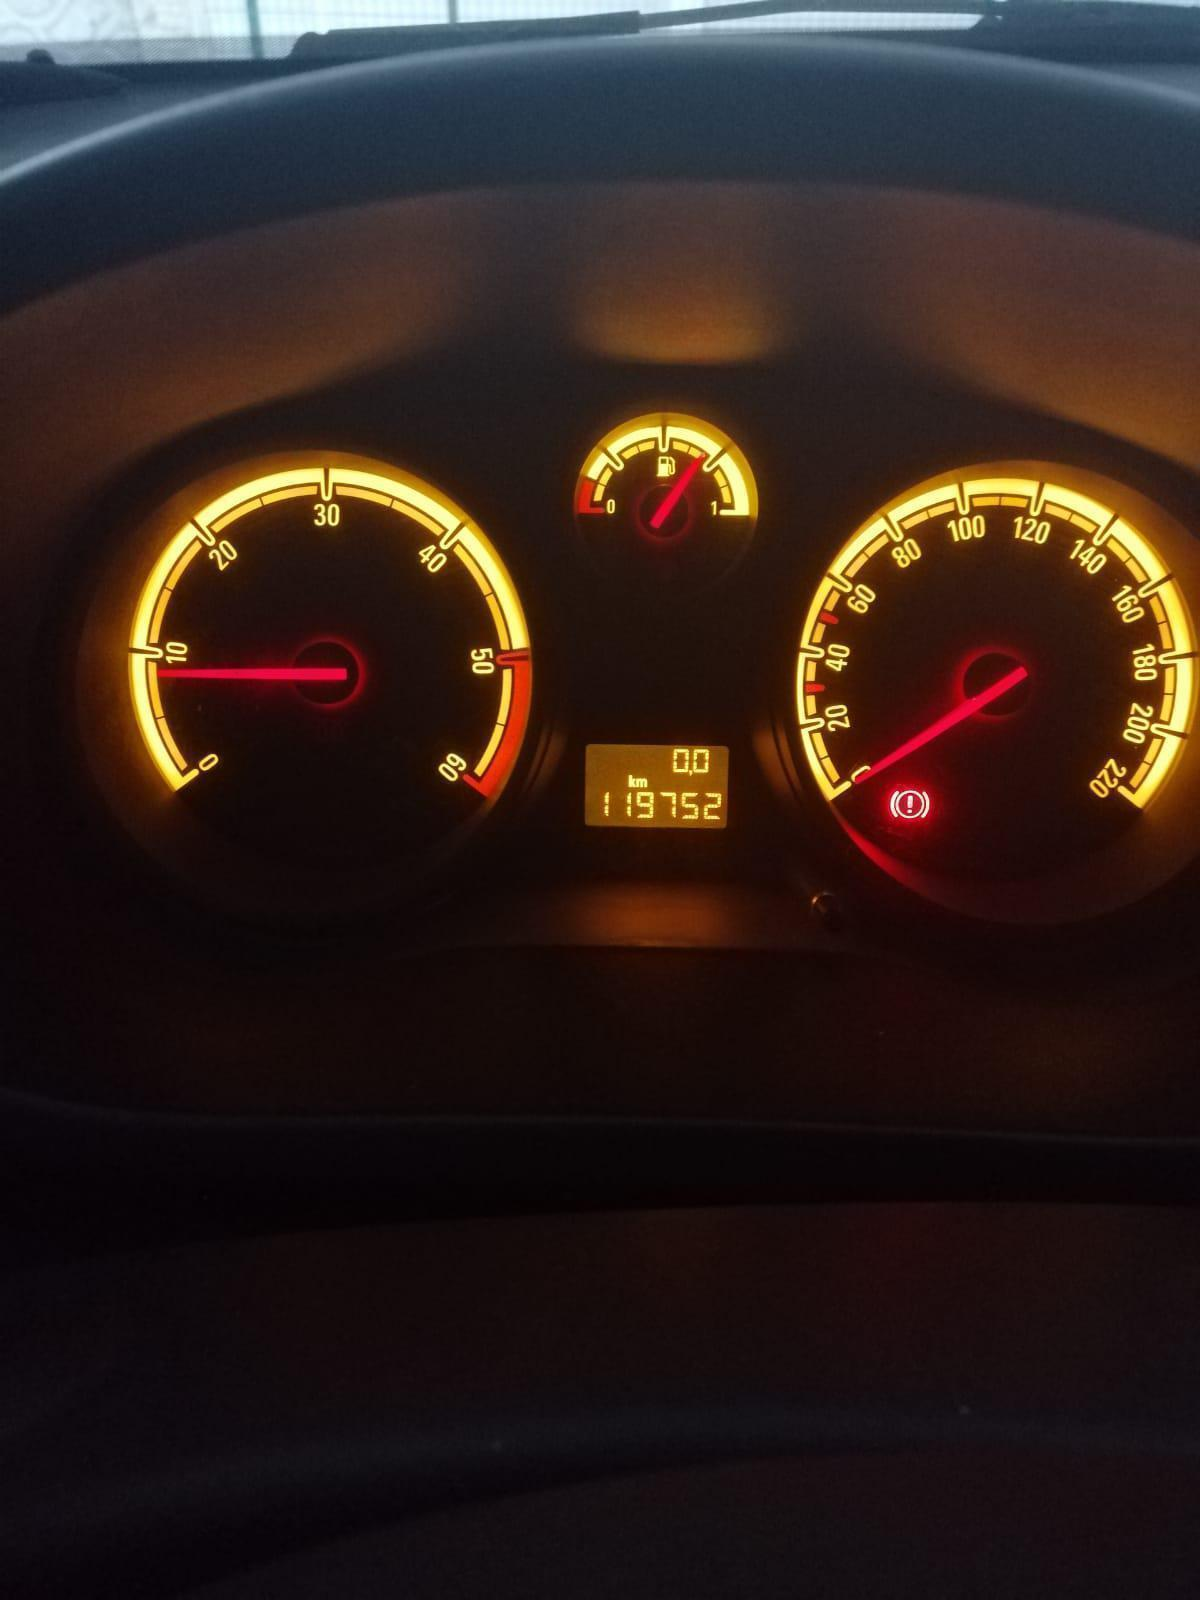,: (688, 769, 693, 776)
0: (672, 748, 689, 774), (693, 748, 708, 774)
1: (603, 791, 610, 816), (625, 791, 632, 816)
2: (703, 792, 722, 819)
5: (679, 791, 700, 819)
7: (659, 790, 676, 818)
9: (635, 791, 655, 819)
X: (635, 777, 648, 787), (626, 774, 635, 787)
odometer: (581, 740, 731, 833)
